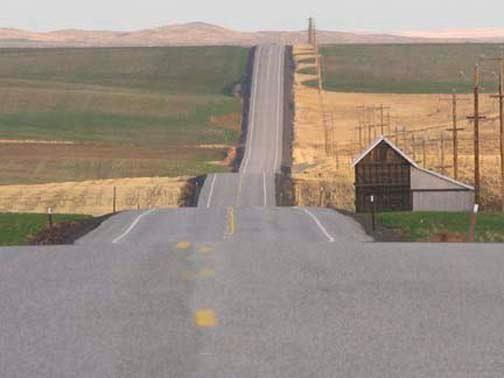house: (352, 134, 480, 215)
